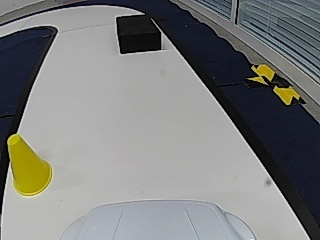block: (115, 15, 161, 52)
cone: (7, 134, 53, 196)
